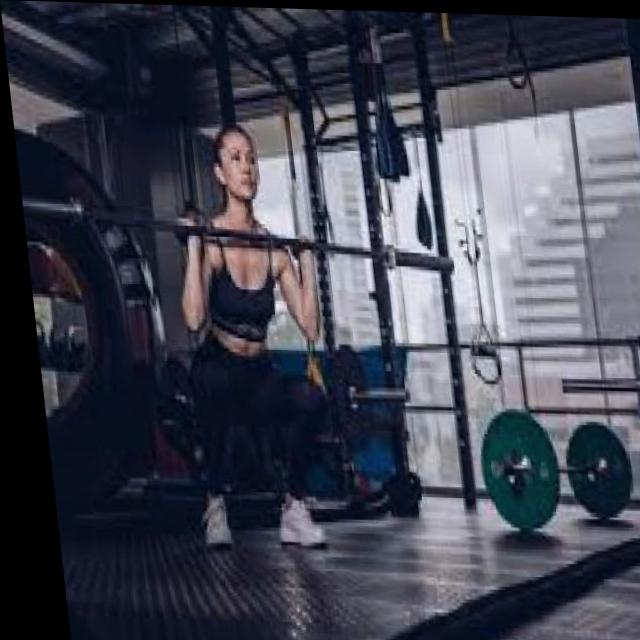barbell: (460, 402, 556, 533), (379, 239, 457, 274)
